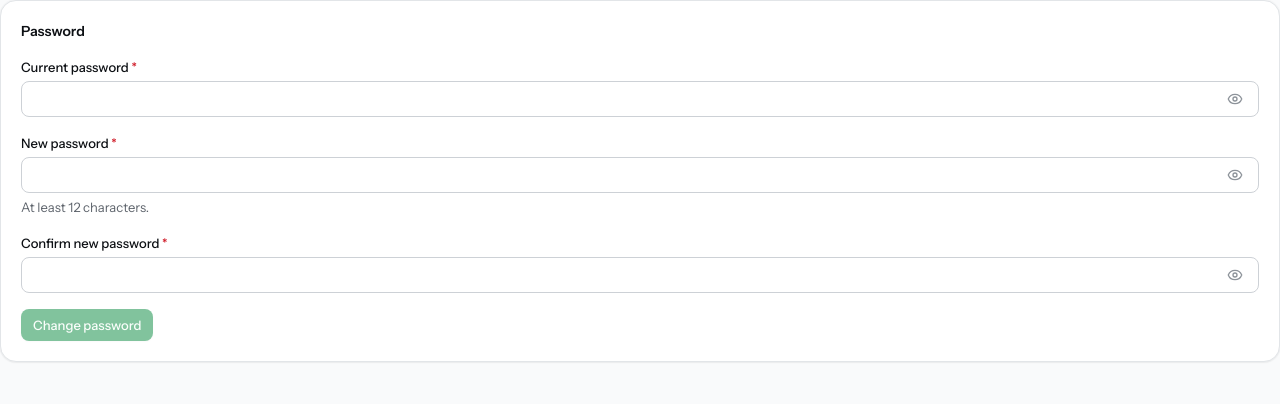
Scenario: ChangePasswordCard › a_wrong_current_password_shows_an_inline_error
Type "wrong-current-pass" into the password field with test id "security-password-current" at (640,99), box 21,81 -> 1259,117
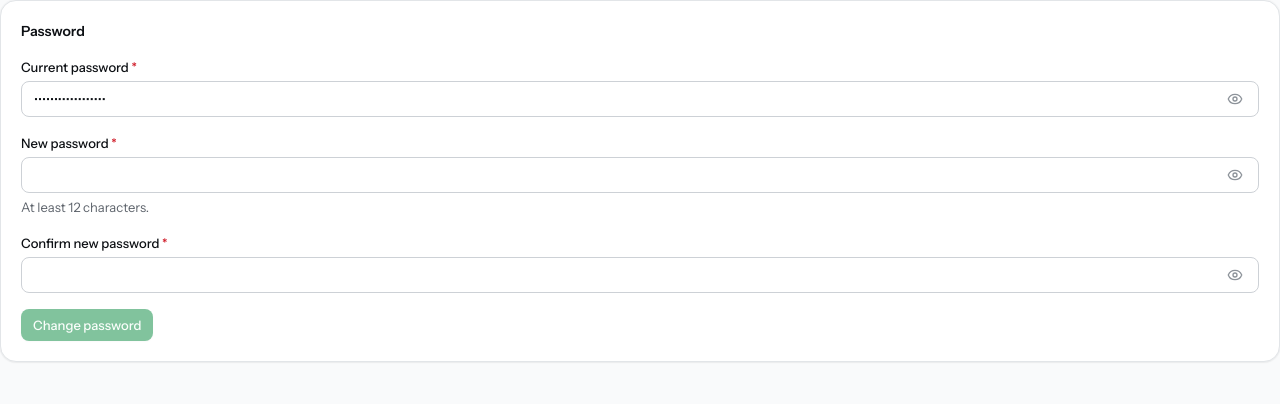
Type "brand-new-password-1" into the password field with test id "security-password-new" at (640,175), box 21,157 -> 1259,193
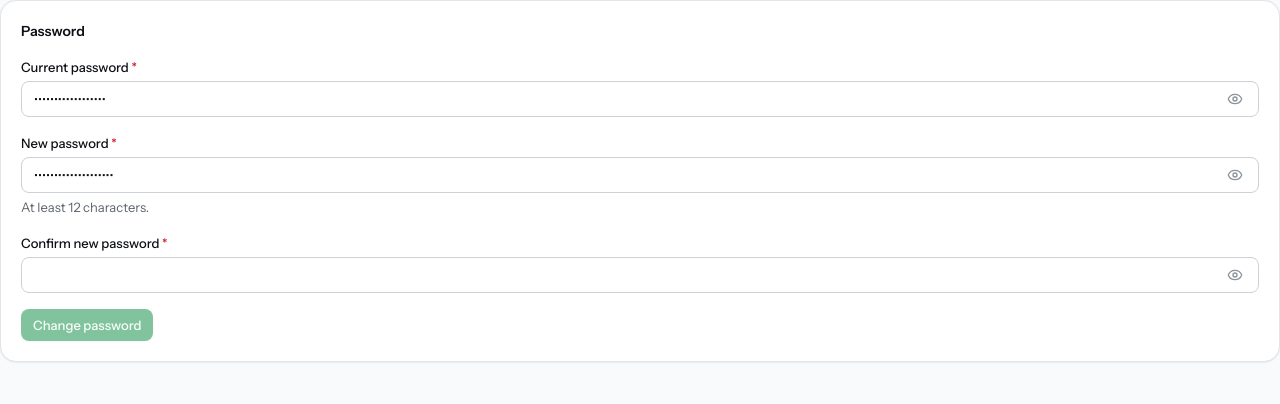
Type "brand-new-password-1" into the password field with test id "security-password-confirm" at (640,275), box 21,257 -> 1259,293
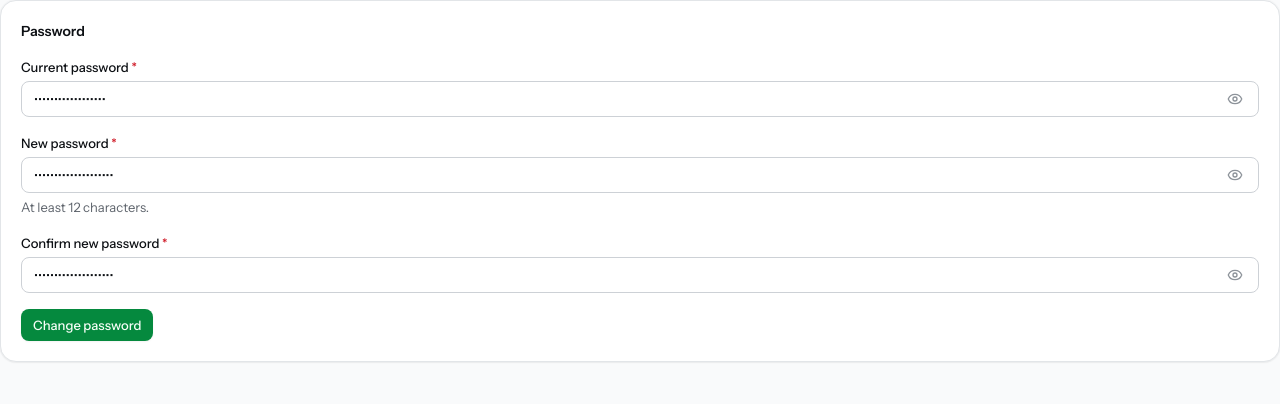
Expected: the button with test id "security-password-submit" is enabled
Click the button with test id "security-password-submit" at (87,325), box 21,309 -> 154,341
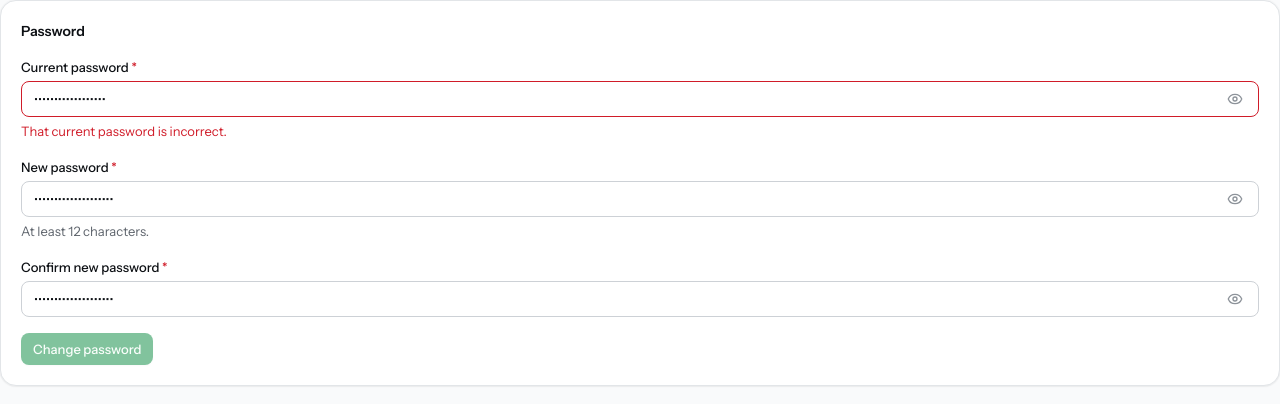
Expected: the text "That current password is incorrect." is shown, 21,123 -> 227,139
